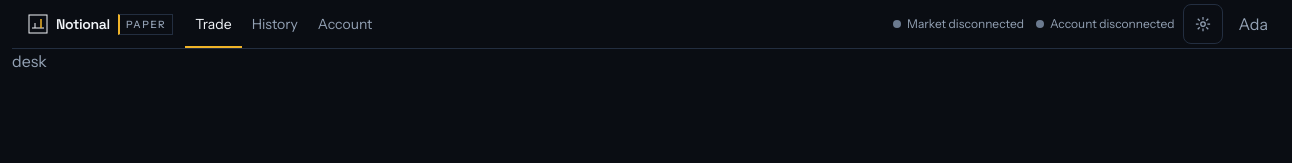
Test case: authenticated app shell › opens a disclosure popover, not an ARIA menu
Click the button "Ada". click: [1253, 24]
box: [1230,4,1276,44]
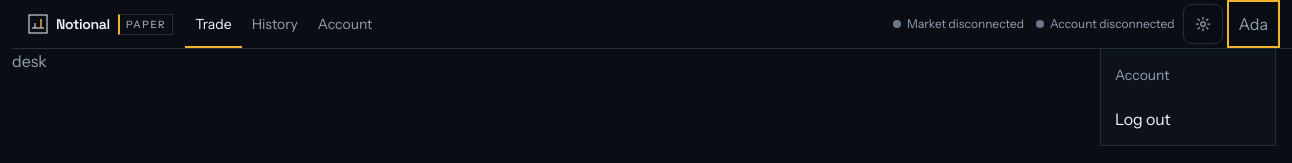
Expected: the menu is not shown
Now the button "Log out" is shown, box [1105,97,1271,141]
